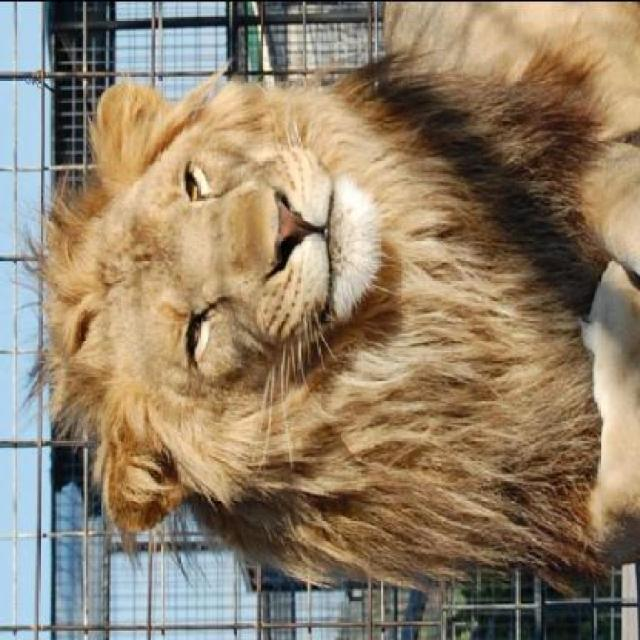Lion: (31, 2, 638, 600)
